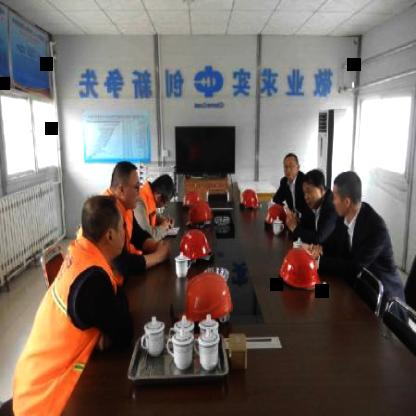head: (82, 190, 130, 260), (107, 158, 142, 216), (330, 168, 364, 223), (149, 168, 179, 220), (300, 163, 328, 213), (282, 152, 298, 180)
